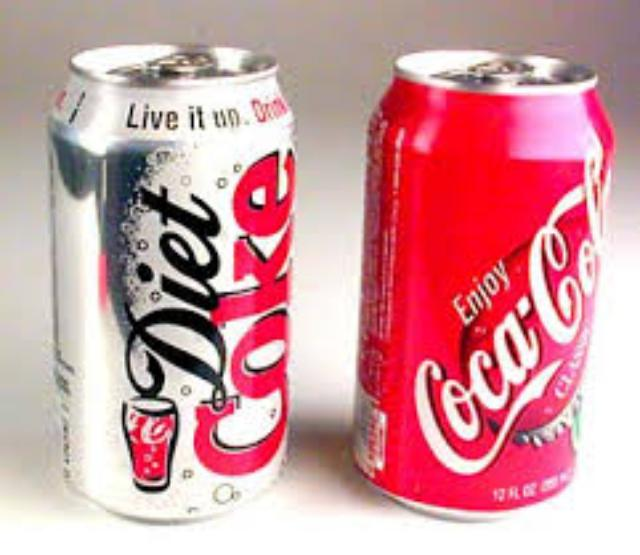metal: (351, 48, 608, 513), (45, 42, 289, 515)
